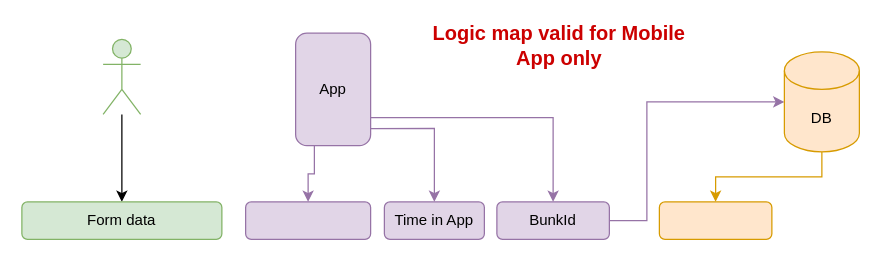
Image size: 881x261. Some labels were removed from this diagram. The shapes that lost their labels are listed below. From the top down, each one's box as (x1, y1, x2, y2) in pixels, then its label:
(102, 38, 141, 114): App entry
(244, 201, 371, 239): type of transaction
(658, 201, 772, 239): Last Daily data physical time
